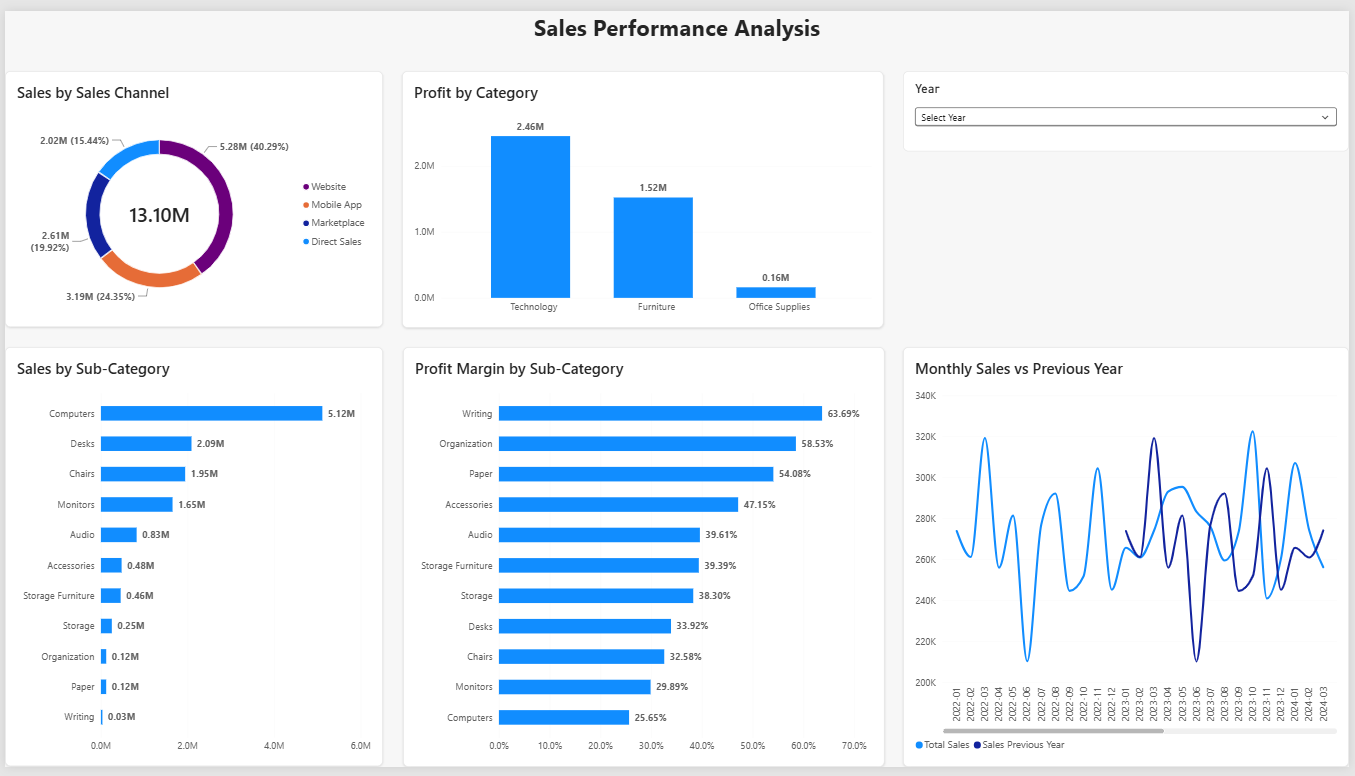

The page's visual inventory and layout, read from the dashboard file:
{"tool":"powerbi","page":{"name":"Sales Analysis","canvas":[1920,1080],"ordinal":1},"visuals":[{"type":"textbox","box":[0,0,1920,59.4],"z":0},{"type":"donutChart","title":"Sales by Sales Channel","fields":{"Category":["sales_data.Sales Channel"],"Y":["sales_data.Total Sales"]},"box":[0,85.1,540,365.8],"z":1000},{"type":"clusteredBarChart","title":"Sales by Sub-Category","fields":{"Category":["DimProduct.Sub-Category"],"Y":["sales_data.Total Sales"]},"box":[0,480.7,540.1,599.5],"z":2000},{"type":"clusteredColumnChart","title":"Profit by Category","fields":{"Category":["DimProduct.Category"],"Y":["sales_data.Total Profit"]},"box":[567.8,85.1,687.6,367.1],"z":3000},{"type":"clusteredBarChart","title":"Profit Margin by Sub-Category","fields":{"Category":["DimProduct.Sub-Category"],"Y":["sales_data.Profit Margin %"]},"box":[569.3,480.1,687.6,599.9],"z":4000},{"type":"lineChart","title":"Monthly Sales vs Previous Year","fields":{"Category":["DateTable.Year Month"],"Y":["sales_data.Total Sales","DateTable.Sales Previous Year"]},"box":[1283.5,480.1,637.1,599.9],"z":5000},{"type":"listSlicer","fields":{"Values":["DateTable.Year"]},"box":[1283.2,85.6,636.8,114.6],"z":6000}]}

Visuals, with their boxes in screenshot pixels (x1, y1, x2, y2), scaled from the page's 1920x1080 canvas onto the 1355x776 screenshot:
textbox: (left=0, top=0, right=1354, bottom=43)
"Sales by Sales Channel" donutChart: (left=0, top=61, right=381, bottom=324)
"Sales by Sub-Category" clusteredBarChart: (left=0, top=345, right=381, bottom=775)
"Profit by Category" clusteredColumnChart: (left=401, top=61, right=886, bottom=325)
"Profit Margin by Sub-Category" clusteredBarChart: (left=402, top=345, right=887, bottom=775)
"Monthly Sales vs Previous Year" lineChart: (left=906, top=345, right=1354, bottom=775)
listSlicer - DateTable.Year: (left=906, top=62, right=1354, bottom=144)
